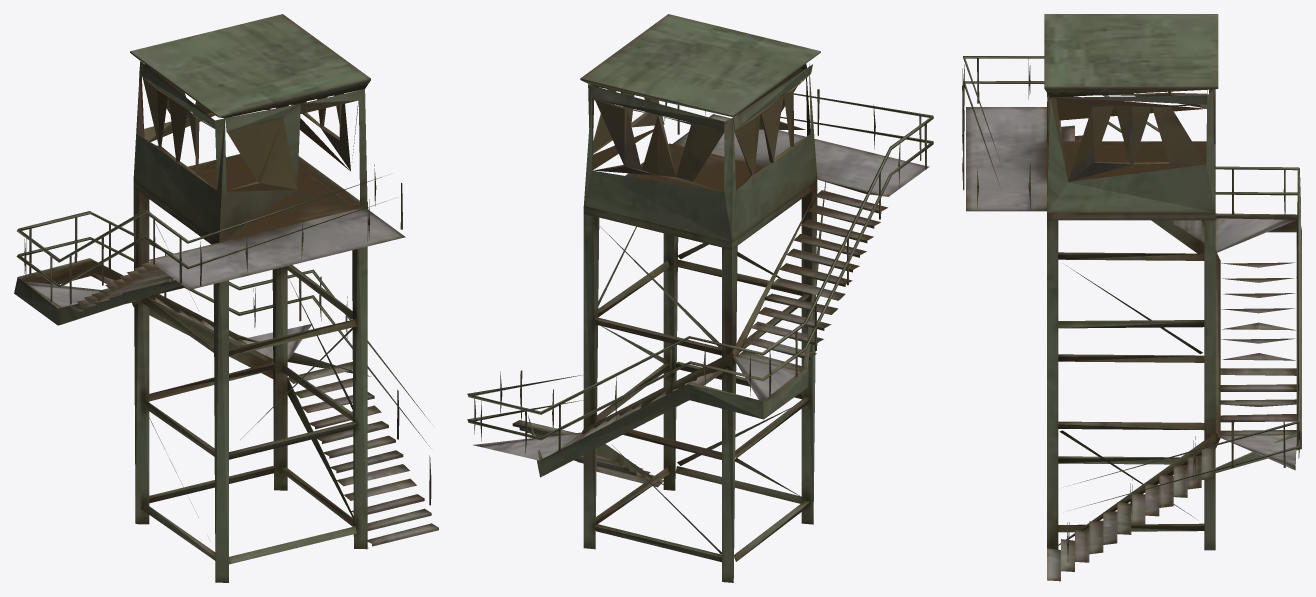
File: base_mil_tower_lod1.glb
The picture shows the model from 3 angles, left to right: view 1: azimuth 30°, elevation 25°; view 2: azimuth 150°, elevation 25°; view 3: azimuth 270°, elevation 25°; orthographic projection.
Parts seen in each view (by area): view 1: base_mil_tower; view 2: base_mil_tower; view 3: base_mil_tower.
Part boxes in pixels (x1,y1,x2,y2): base_mil_tower: (14,14,438,582); base_mil_tower: (467,14,933,582); base_mil_tower: (962,14,1301,581).
Size of the model in its own units: 6.04 by 9.14 by 6.04.
Materials: 1 (1 with a texture image).
